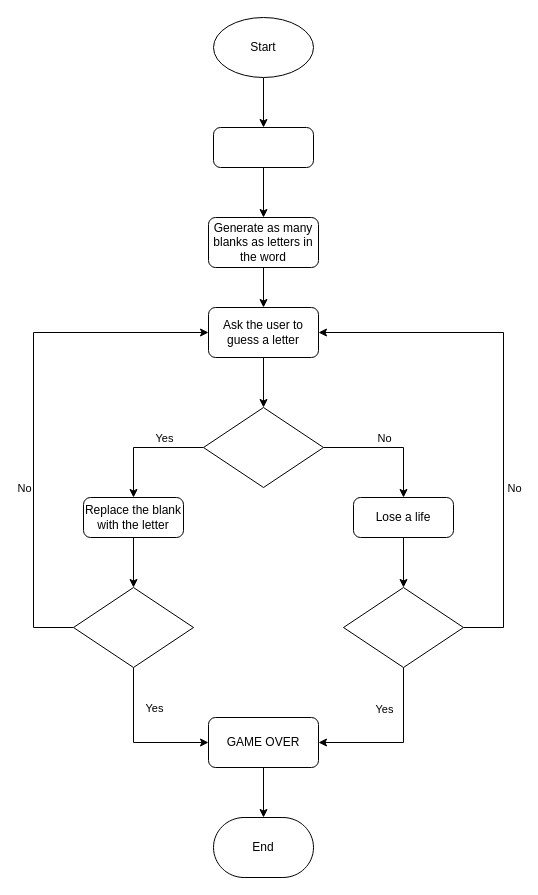
The diagram is 538 pixels wide and 895 high, and some of its shapes have lost their labels. Each missing label, with the centre of its shape:
Are all the blanks filled?: [133,627]
Generate random word: [263,147]
Have they run out of lives?: [403,627]
Is the guessed letter in the word: [263,447]
